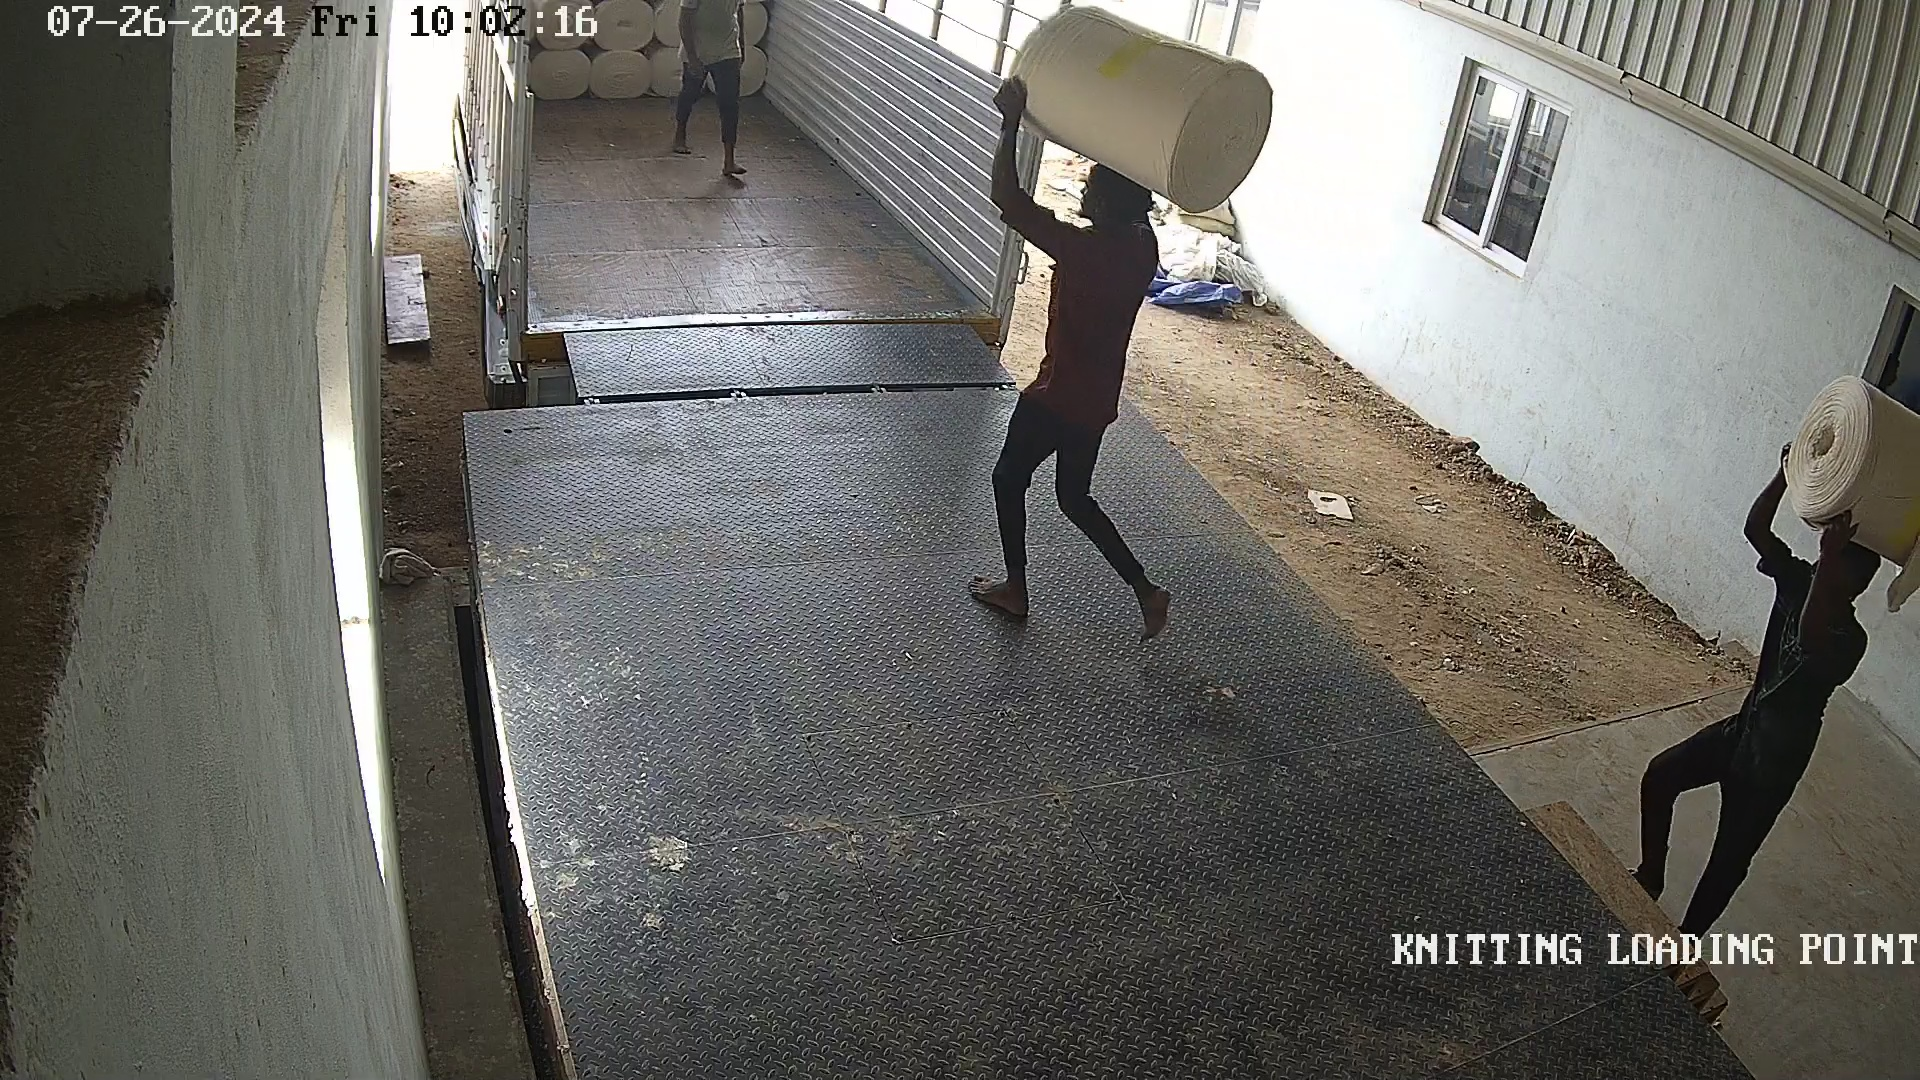bag: (1002, 4, 1282, 218)
